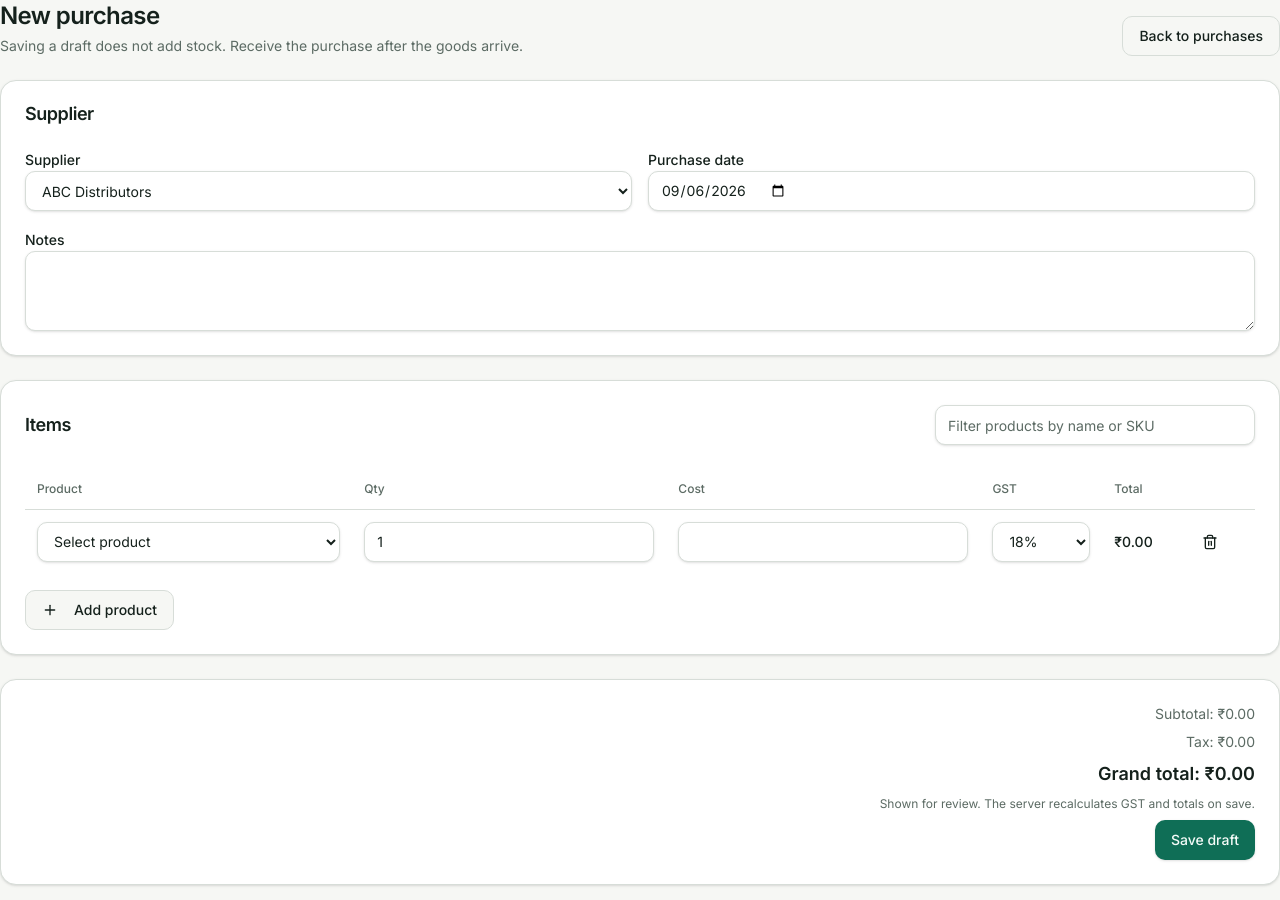
Test: Purchase form › requires a product before saving
Expected: the dropdown labelled "Supplier" is shown, [25,171,632,211]
Click the button "Save draft".
click(1205, 840)  # box [1155,820,1255,860]
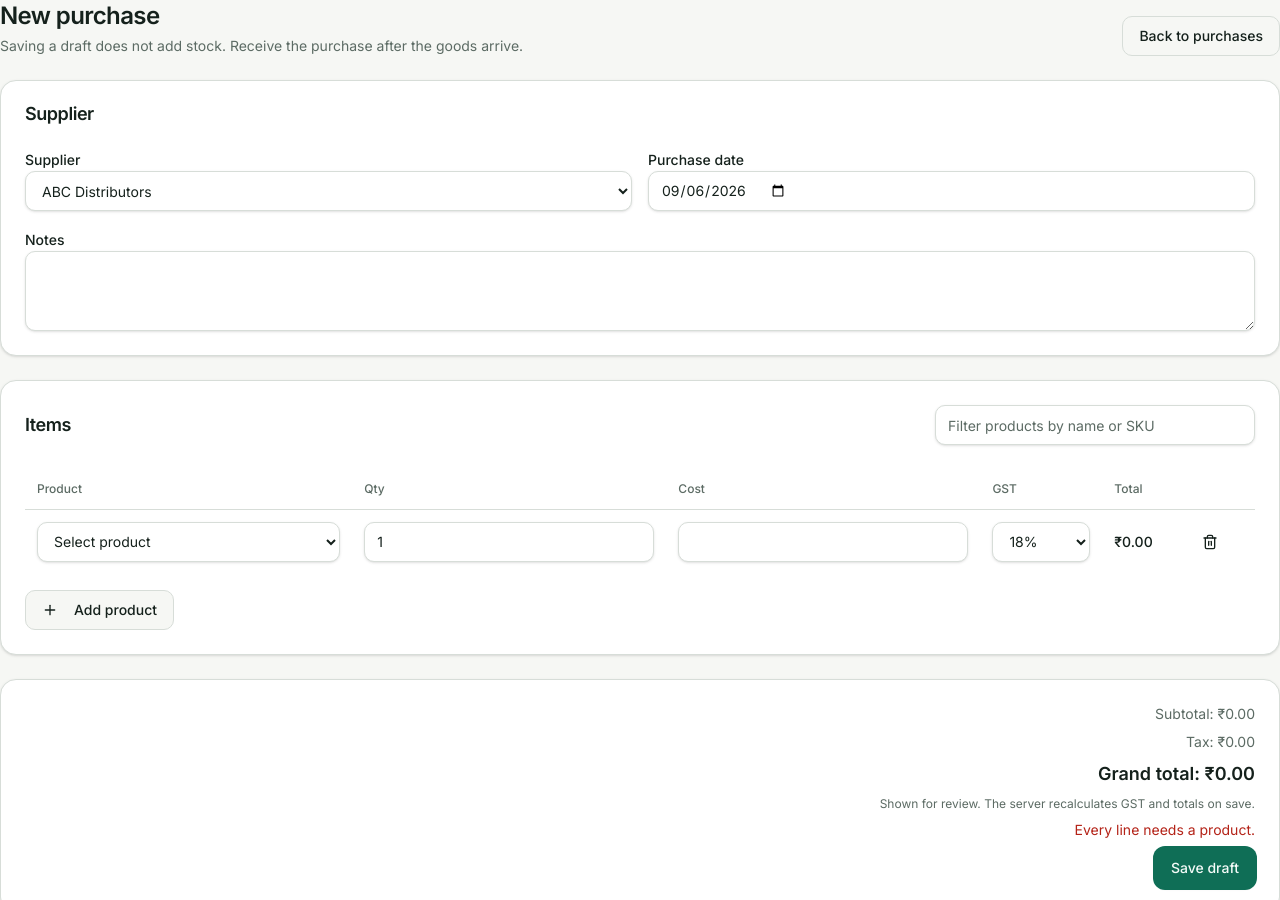
Expected: the text "Every line needs a product." is shown, [1075,820,1255,840]
